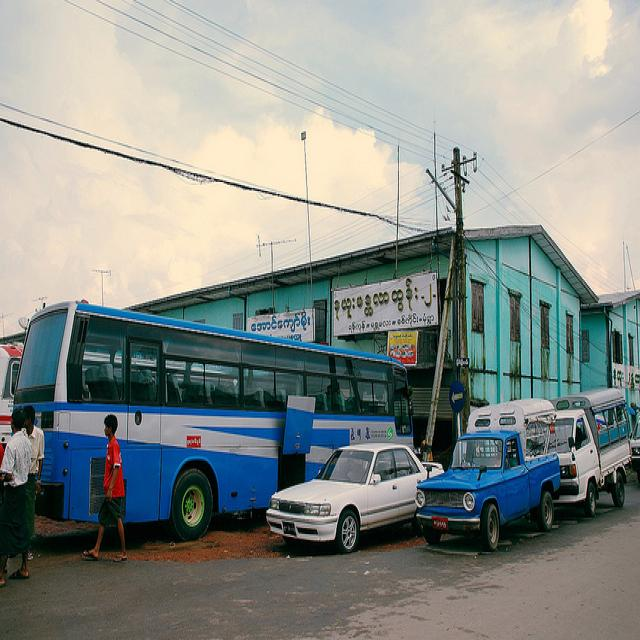Vehicle: (9, 305, 416, 542), (414, 397, 562, 551), (267, 439, 444, 551), (551, 388, 634, 516), (0, 342, 25, 470), (630, 414, 640, 485)
